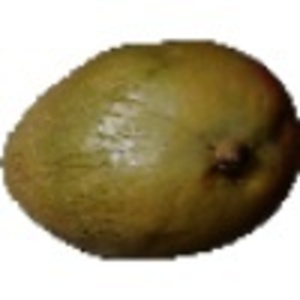mamão: (4, 27, 298, 268)
